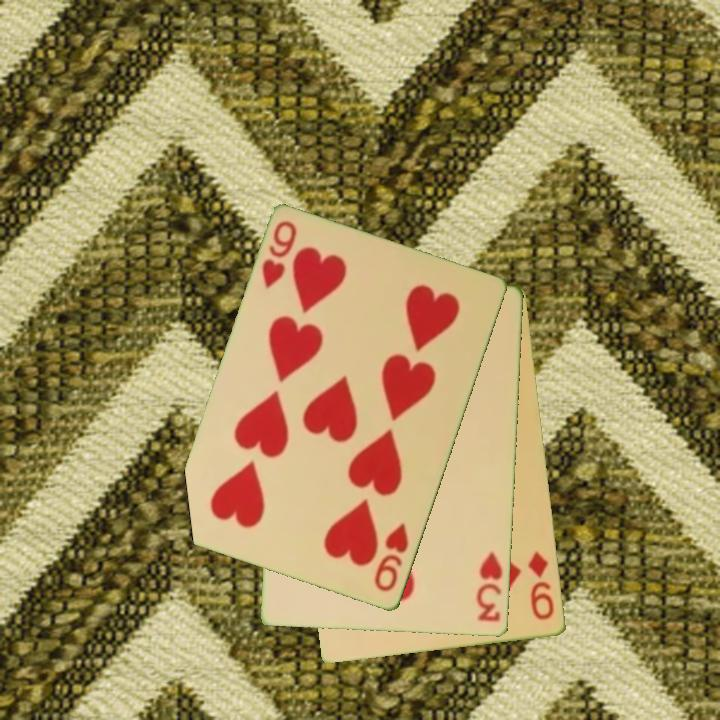3h: (473, 548, 506, 625)
9d: (525, 547, 558, 624)
9h: (258, 217, 300, 293), (371, 519, 412, 595)
